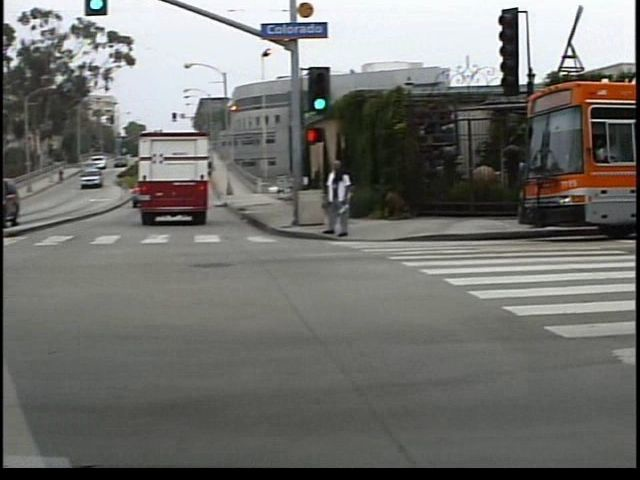person: (331, 156, 362, 239)
